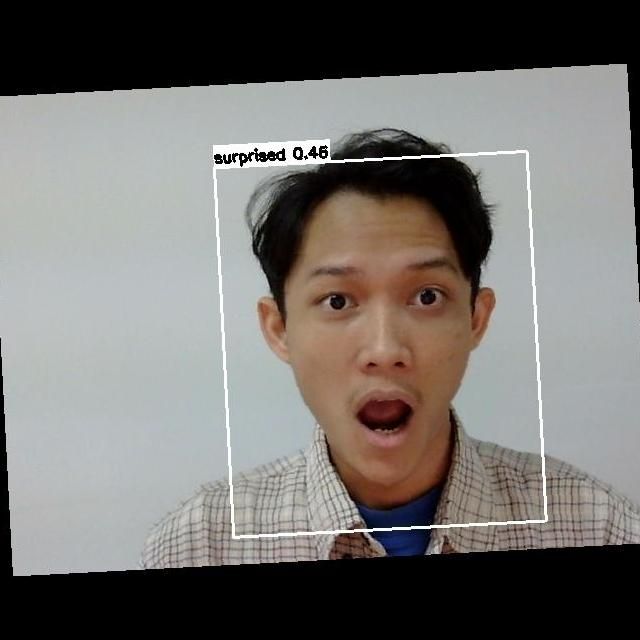Surprised: (272, 237, 485, 449)
